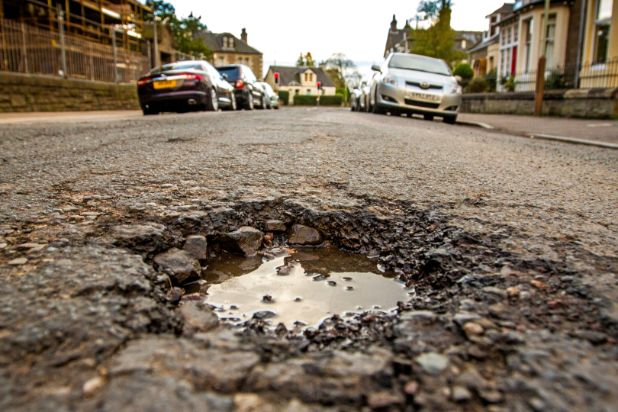pothole: (105, 196, 478, 353)
